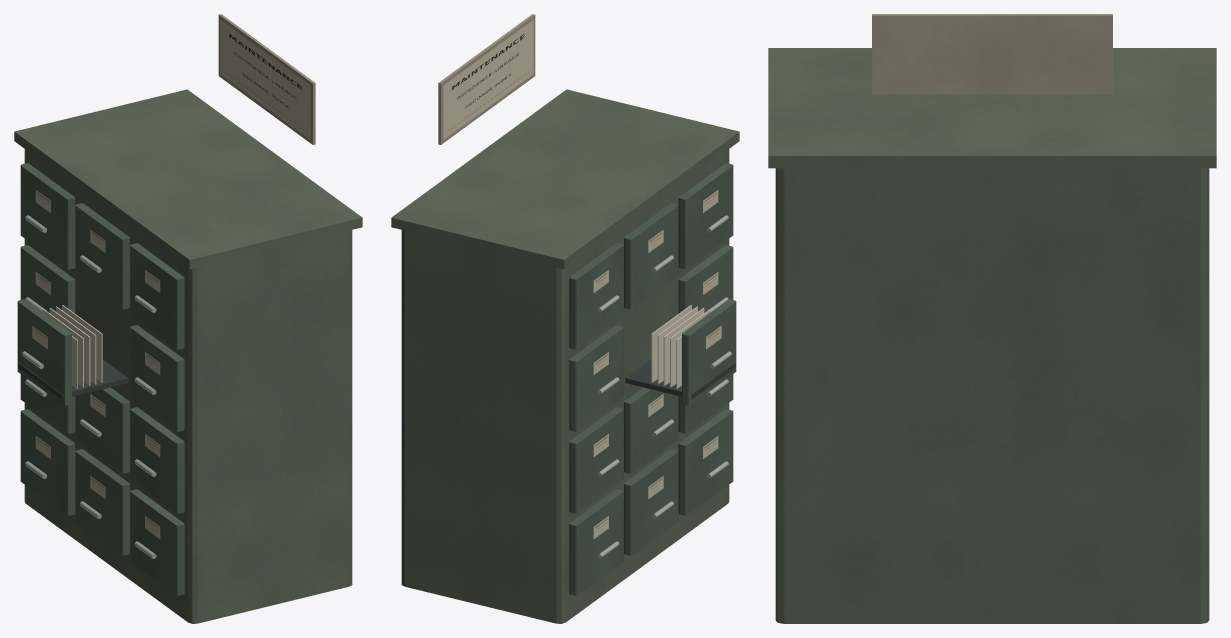
File: SM_ArchiveProps_CardIndex_LOD1.glb
The picture shows the model from 3 angles, left to right: view 1: azimuth 30°, elevation 25°; view 2: azimuth 150°, elevation 25°; view 3: azimuth 270°, elevation 25°; orthographic projection. The views are drawn at different scales.
Visible parts, largest first — view 1: SM_ArchiveProps_CardIndex_LOD1; view 2: SM_ArchiveProps_CardIndex_LOD1; view 3: SM_ArchiveProps_CardIndex_LOD1.
Boxes of the visible parts, x1,y1,x2,y2 form: SM_ArchiveProps_CardIndex_LOD1: (14,14,362,623); SM_ArchiveProps_CardIndex_LOD1: (391,14,739,623); SM_ArchiveProps_CardIndex_LOD1: (768,14,1216,623).
Bounding box in the file's own units: 0.748 × 1.39 × 0.93.
7 materials, 4 textured.
